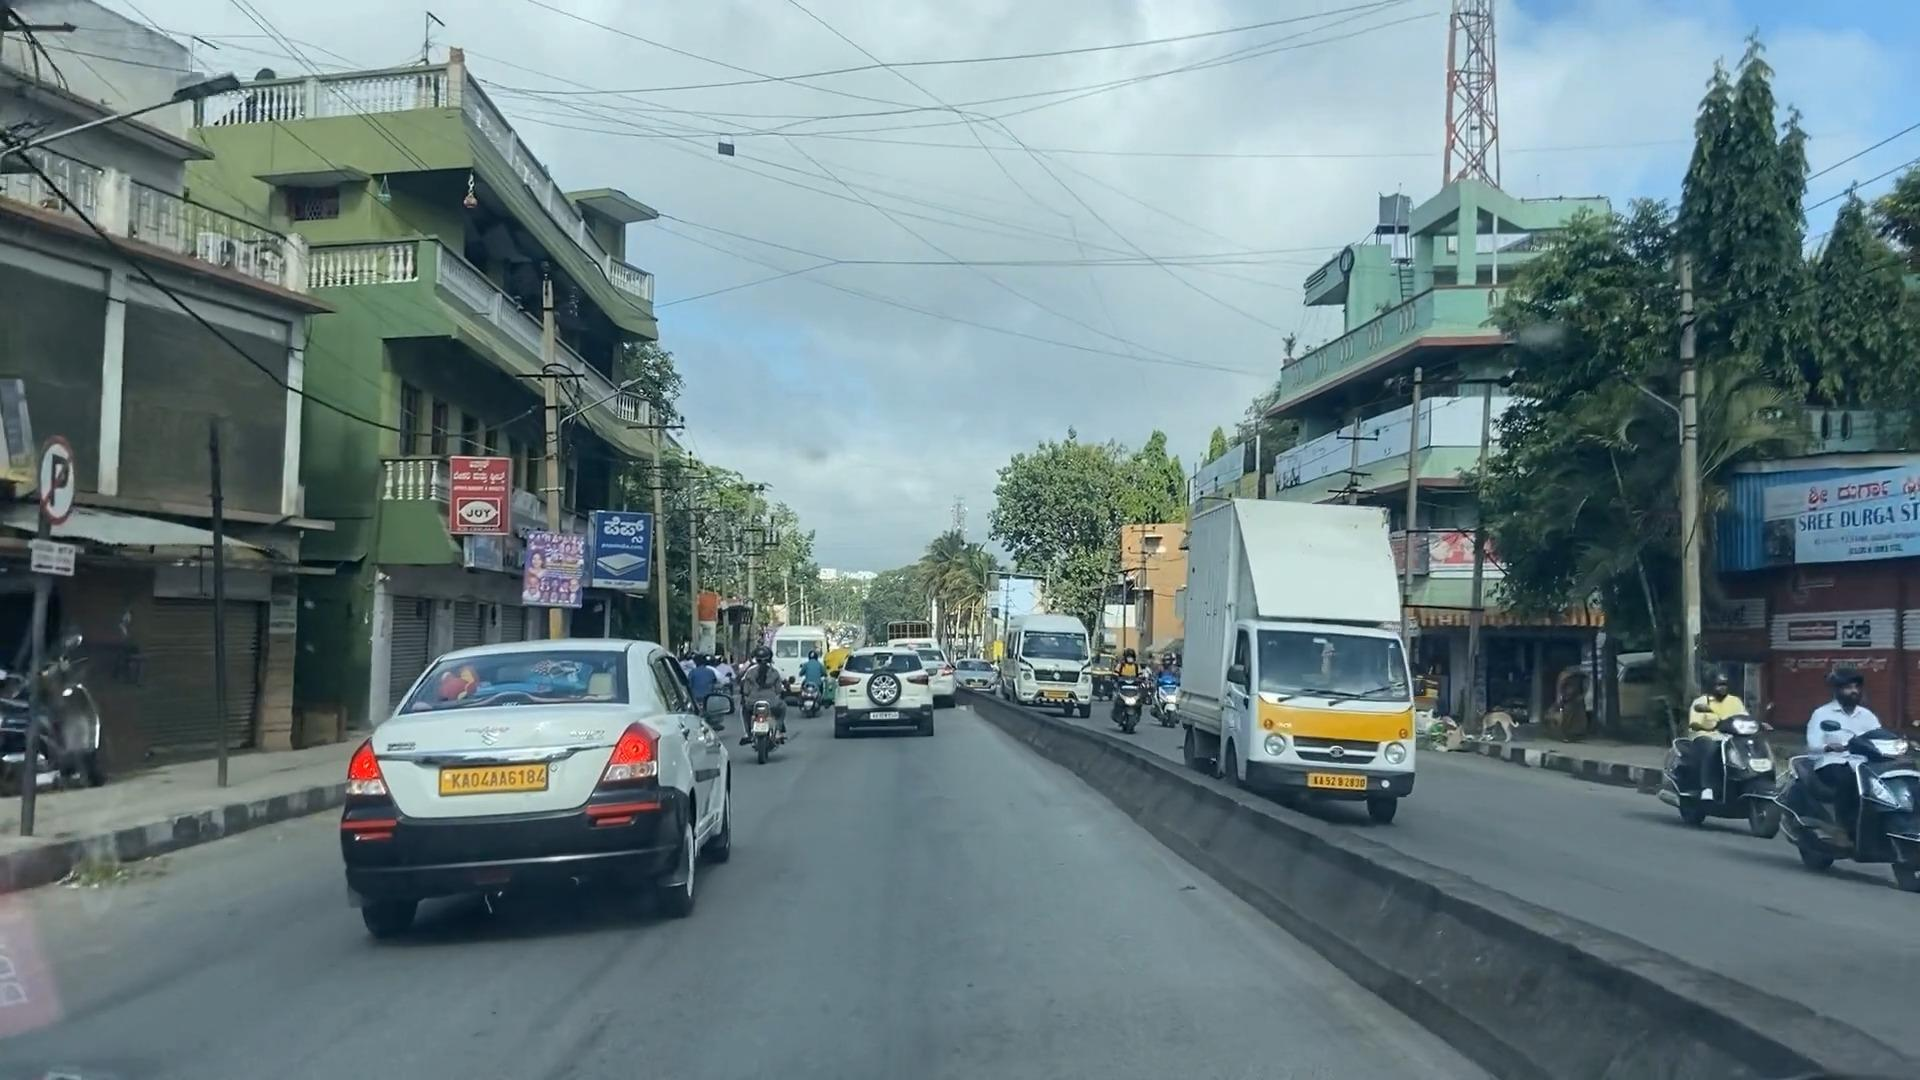LMV: (349, 654, 736, 930), (833, 653, 934, 738), (749, 641, 785, 760)
